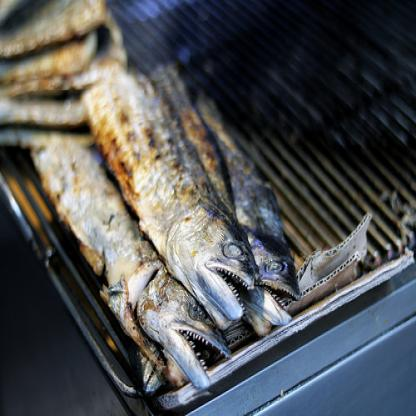Peixe: (0, 0, 319, 416)
